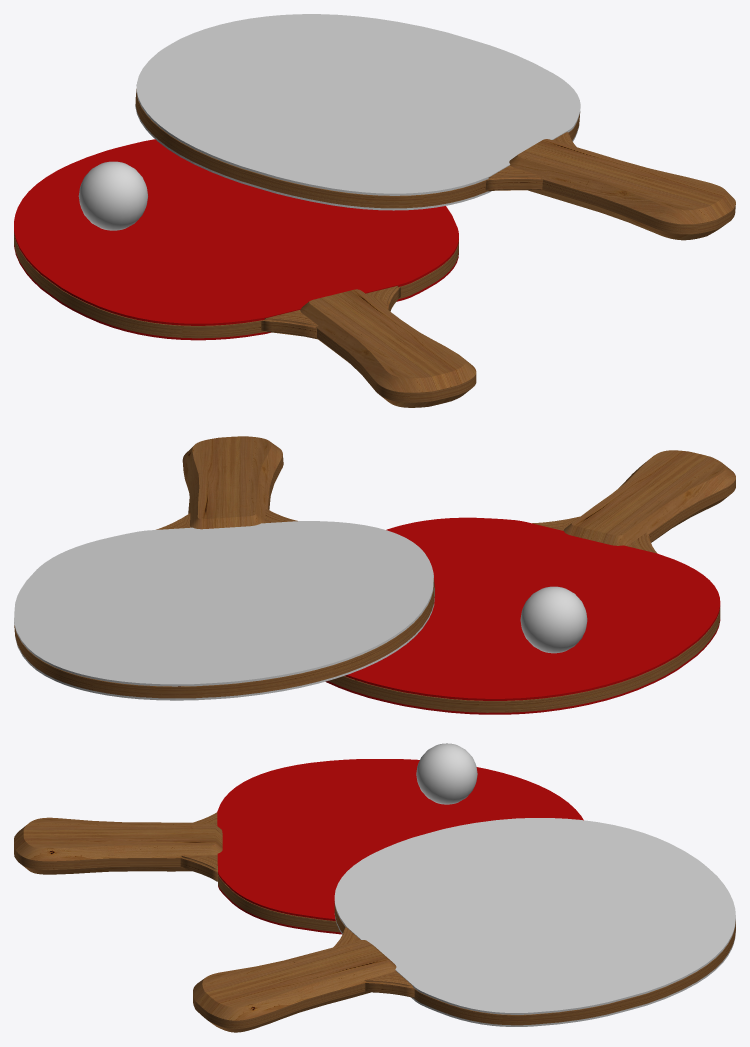
Rendered from Table tennis bats.FBX.
3 renders of one model, top to bottom at view 1: azimuth 30°, elevation 25°; view 2: azimuth 150°, elevation 25°; view 3: azimuth 270°, elevation 25°, orthographic. The views are drawn at different scales.
Visible parts, largest first — view 1: paddle 2, paddle 1, ping pong ball; view 2: paddle 2, paddle 1, ping pong ball; view 3: paddle 2, paddle 1, ping pong ball.
Part boxes in pixels (<box>): paddle 2: <box>135,14,735,240</box>; paddle 1: <box>14,139,476,407</box>; ping pong ball: <box>78,161,147,230</box>; paddle 2: <box>14,436,434,700</box>; paddle 1: <box>325,450,735,714</box>; ping pong ball: <box>520,586,587,653</box>; paddle 2: <box>193,818,735,1032</box>; paddle 1: <box>14,759,583,934</box>; ping pong ball: <box>416,743,477,804</box>.
Bounding box in the file's own units: 24.63 × 3.37 × 29.05.
